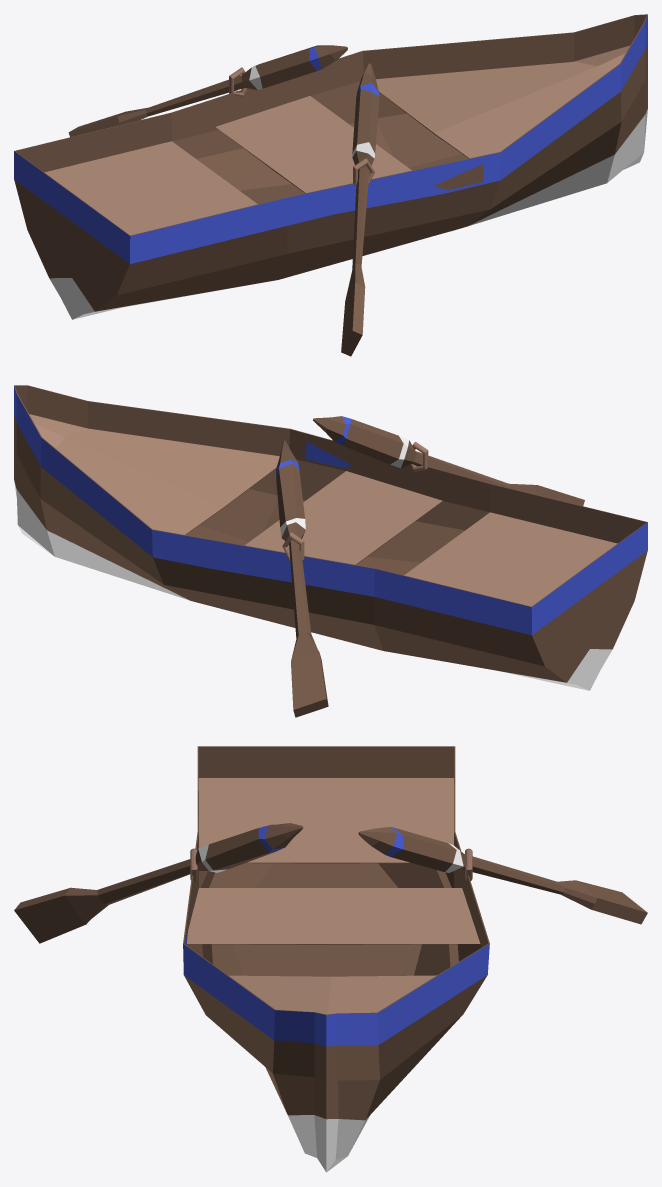
File: boat.obj
3 views of the same model, one above another, from view 1: azimuth 30°, elevation 25°; view 2: azimuth 150°, elevation 25°; view 3: azimuth 270°, elevation 25° (orthographic). The views are drawn at different scales.
Parts seen in each view (by area): view 1: boat; view 2: boat; view 3: boat.
Boxes of the visible parts, <box> form: boat: <box>14,14,647,356</box>; boat: <box>14,385,647,717</box>; boat: <box>14,746,647,1172</box>.
Size of the model in its own units: 1.98 by 0.6431 by 1.7.
